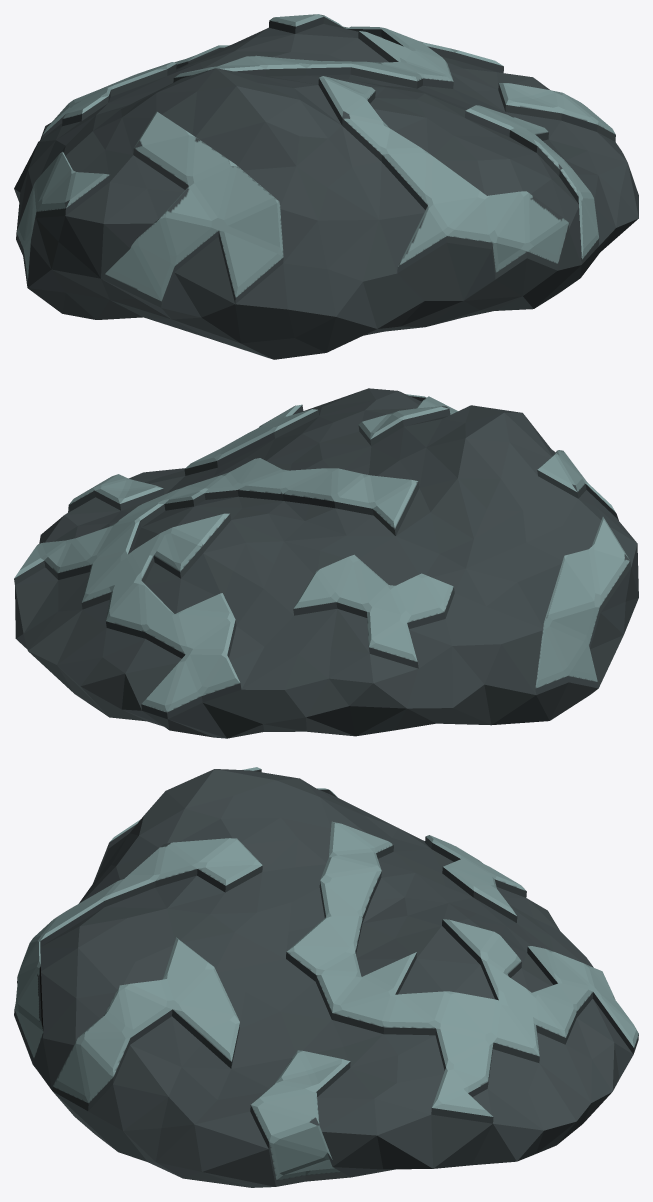
The model's file is SilverDeposit_v1.fbx.
3 renders of one model, top to bottom at view 1: azimuth 30°, elevation 25°; view 2: azimuth 150°, elevation 25°; view 3: azimuth 270°, elevation 25°, orthographic. The views are drawn at different scales.
Parts seen in each view (by area): view 1: Icosphere; view 2: Icosphere; view 3: Icosphere.
Part boxes in pixels (bbox=[...]): Icosphere: bbox=[14, 14, 638, 359]; Icosphere: bbox=[14, 388, 638, 738]; Icosphere: bbox=[14, 767, 638, 1187].
Size of the model in its own units: 851 by 367 by 805.
Materials: 2 (1 with a texture image).
